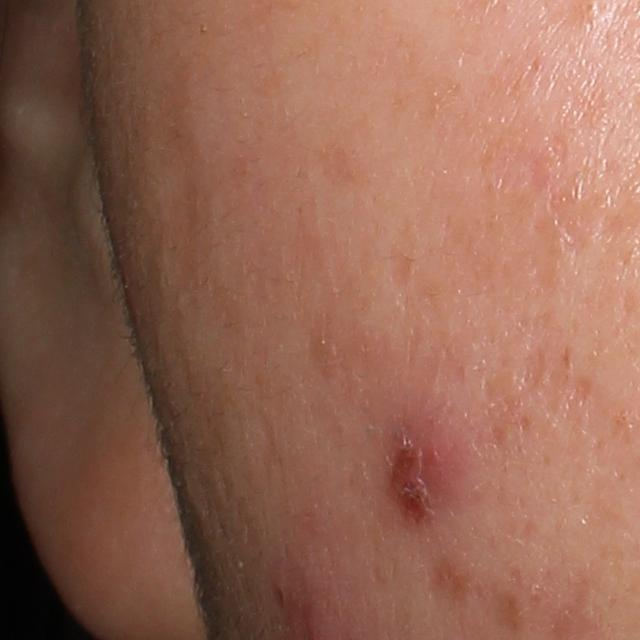atrophic_scar: (391, 221, 417, 301), (520, 345, 546, 392), (570, 373, 594, 403)
papule: (384, 416, 477, 515)
